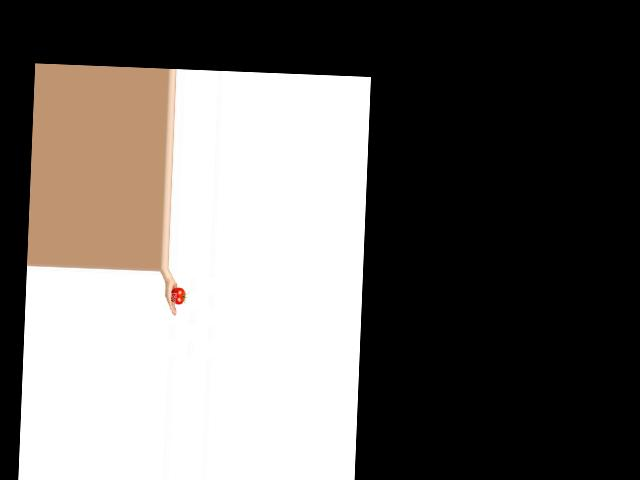tomato: (170, 287, 185, 304)
